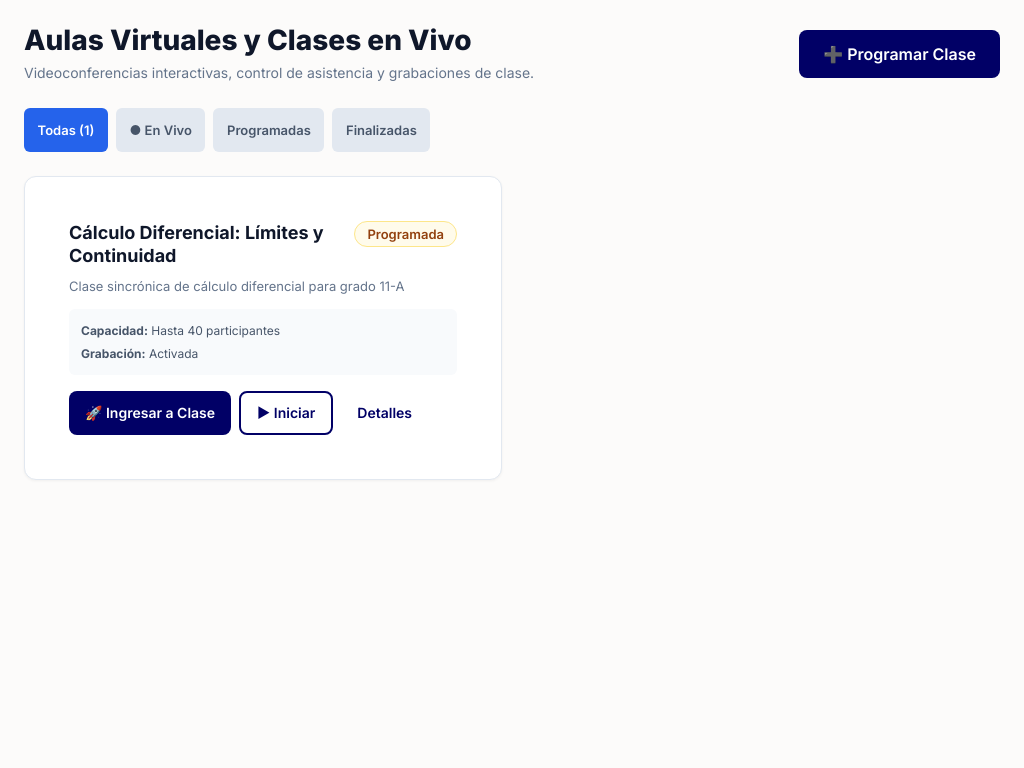
Virtual Classrooms View & Actions › opens detail modal and displays attendances and recordings
Step 1. Click the button "Detalles" → (385, 413), box x1=341 y1=391 x2=428 y2=435
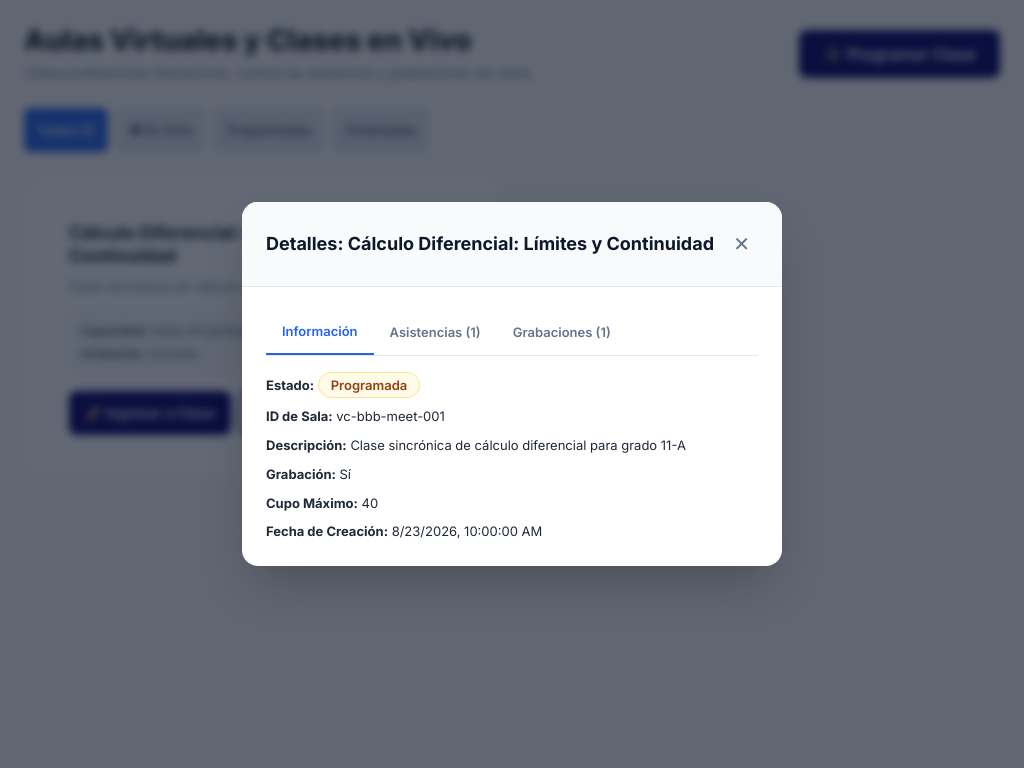
expect the heading "Detalles: Cálculo Diferencial: Límites y Continuidad" is shown: met, box x1=266 y1=233 x2=714 y2=255
Note: Click Attendances sub-tab
Step 2. Click the button "Asistencias (1)" → (435, 333), box x1=374 y1=311 x2=497 y2=355
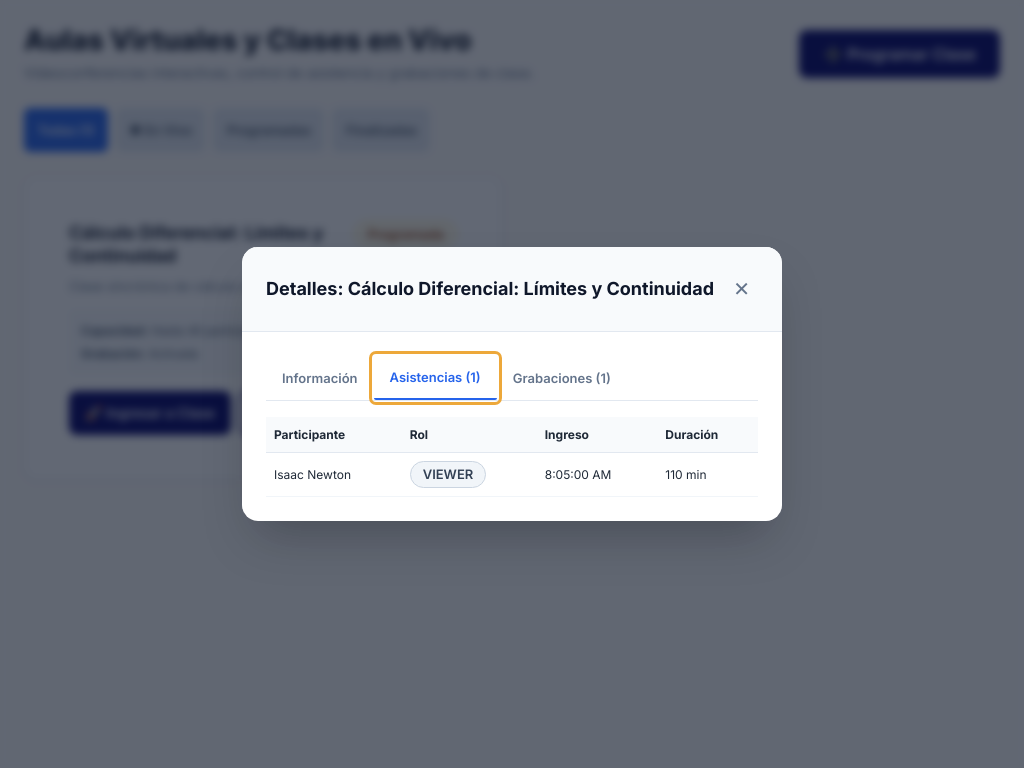
expect the text "Isaac Newton" is shown: met, box x1=266 y1=453 x2=402 y2=496
expect the text "110 min" is shown: met, box x1=657 y1=453 x2=758 y2=496
Note: Click Recordings sub-tab
Step 3. Click the button "Grabaciones (1)" → (562, 378), box x1=497 y1=356 x2=627 y2=400
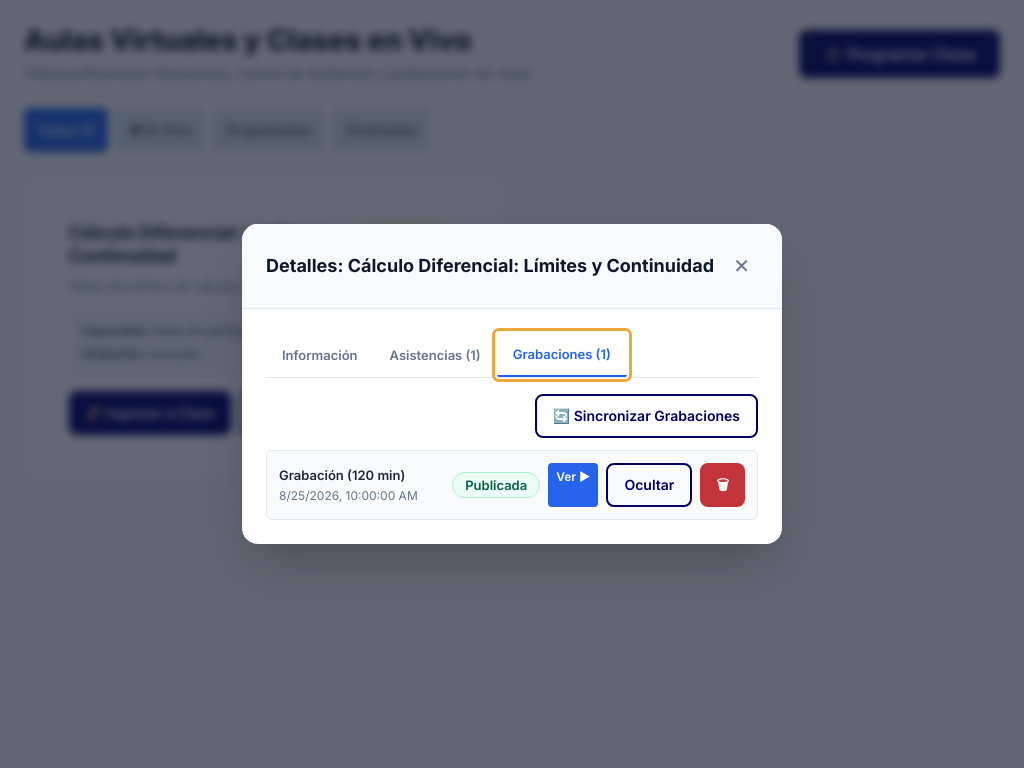
expect the text "Grabación (120 min)" is shown: met, box x1=279 y1=465 x2=418 y2=486
expect the text "Publicada" is shown: met, box x1=452 y1=472 x2=540 y2=498
